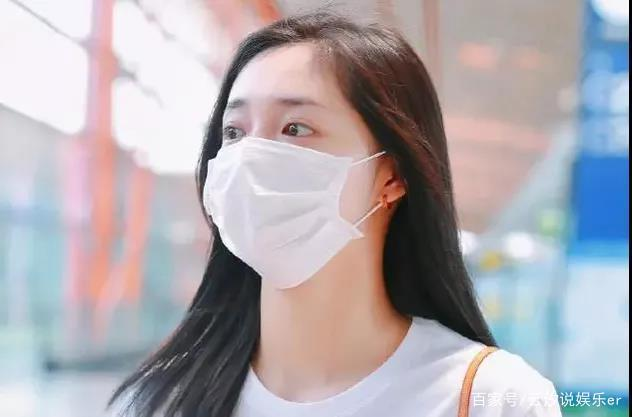mask: (201, 50, 399, 284)
